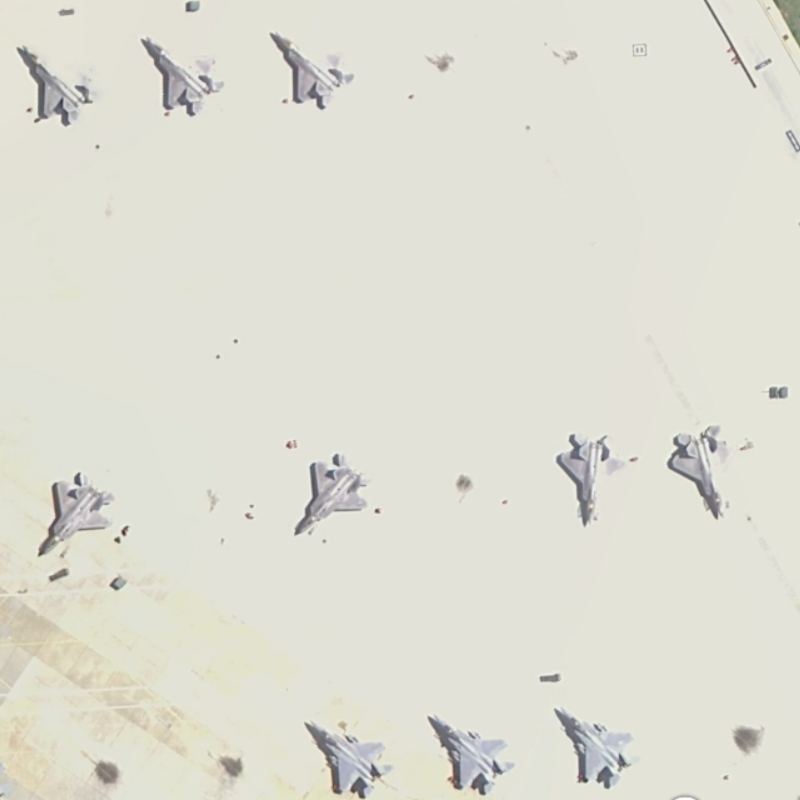A13: (424, 706, 521, 799), (302, 716, 400, 800), (557, 700, 641, 794)
A15: (265, 22, 360, 116), (137, 28, 231, 121), (10, 36, 103, 129), (661, 422, 739, 523), (292, 444, 374, 539), (553, 431, 630, 531), (36, 467, 118, 560)
